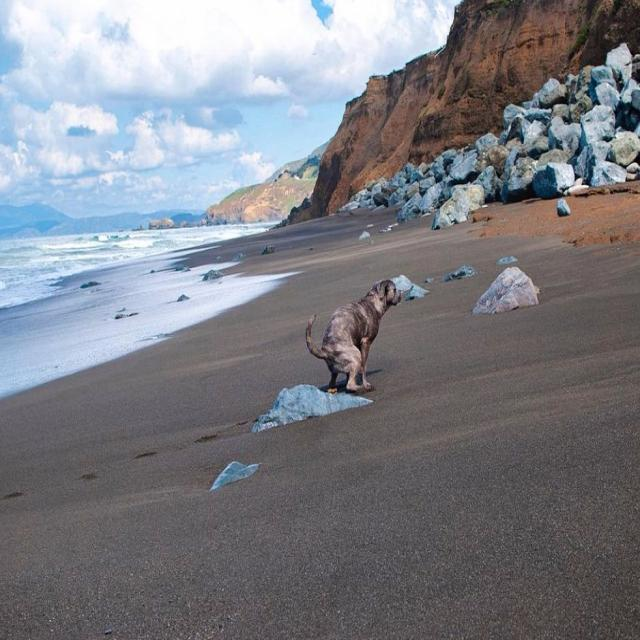squatting: (302, 270, 405, 402)
